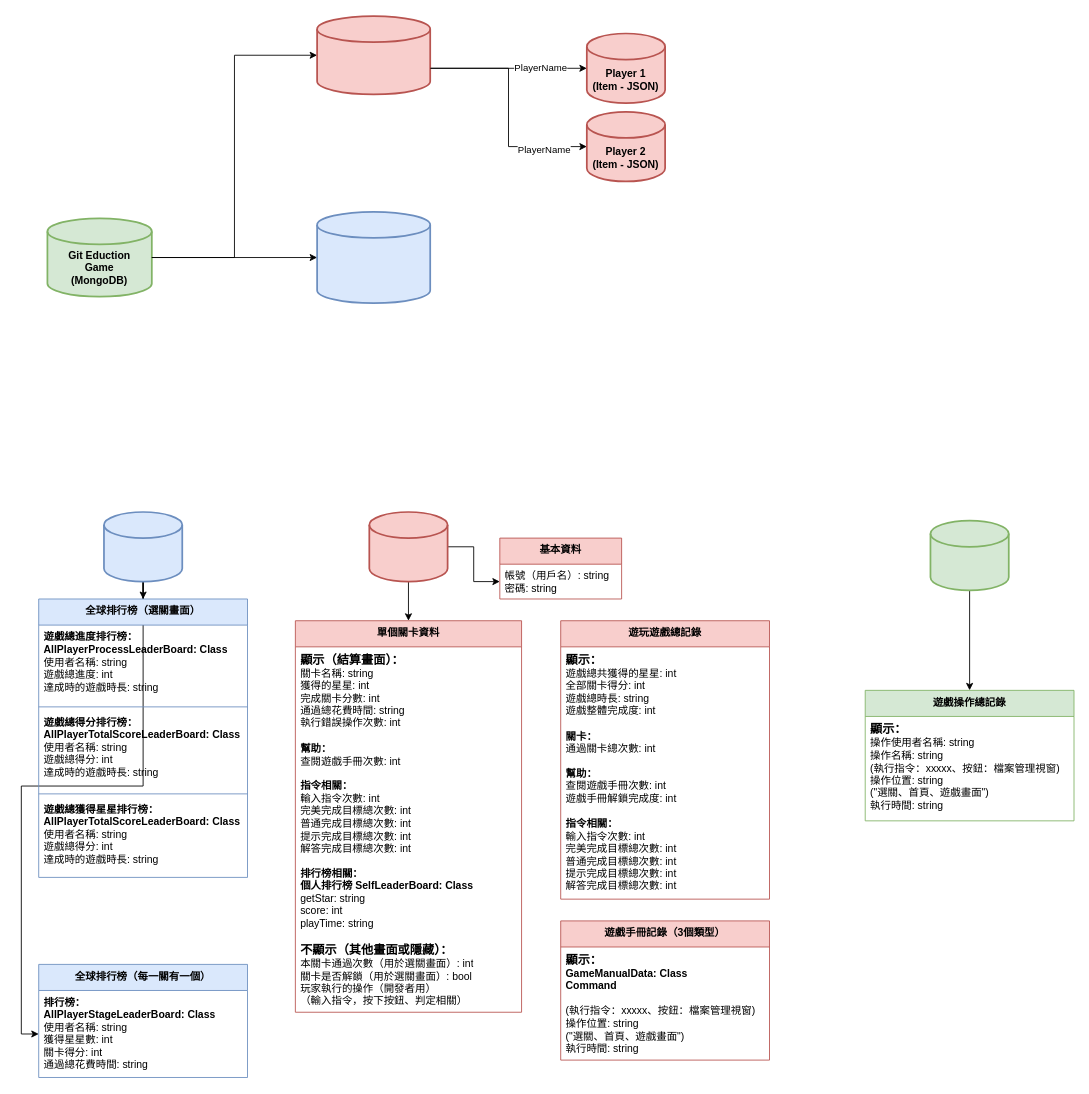
The diagram is 1089 pixels wide and 1094 high, and some of its shapes have lost their labels. The shapes that lost their labels are listed below. From the top down, each one's centre as x and y in pixels, then its label:
At pixel 373 55: "PlayerSaveData (Collection)".
At pixel 373 257: "Global LeaderBoard (Collection)".
At pixel 143 546: "Global LeaderBoard".
At pixel 408 546: "Player Data".
At pixel 969 555: "PlayerAction Data".
